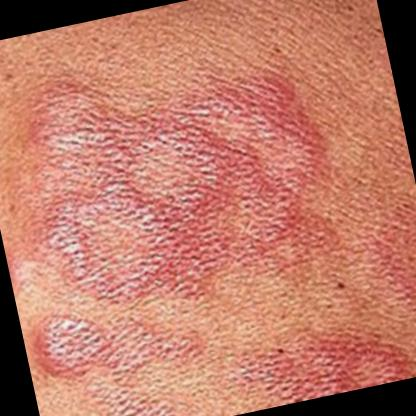Leprosy: (10, 24, 349, 316), (26, 283, 223, 416), (225, 306, 416, 412)
